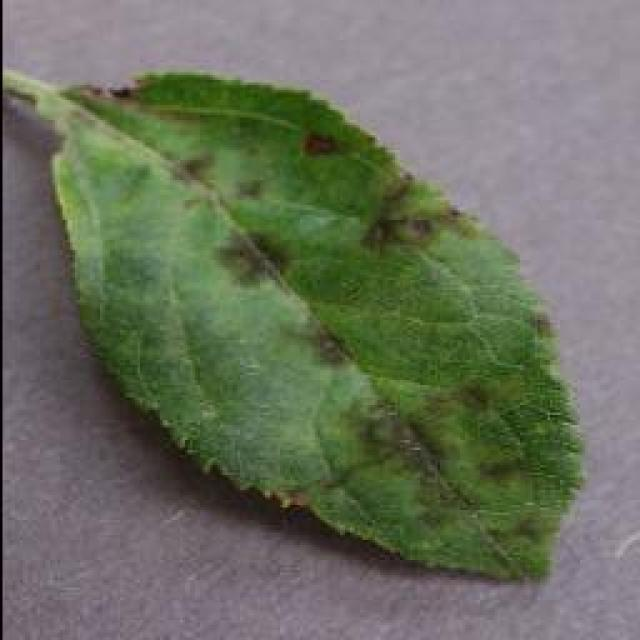apple scab disease: (5, 63, 587, 585)
